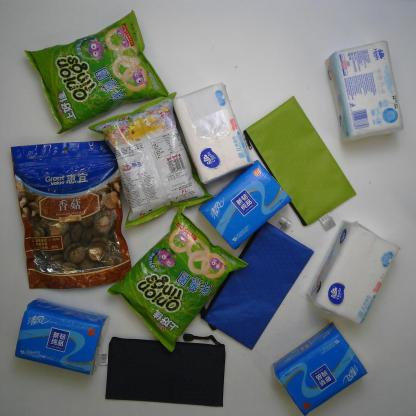Dried Food: (9, 139, 134, 291)
Puffed Food: (105, 206, 250, 354), (23, 8, 170, 135), (87, 90, 215, 230)
Stationery: (199, 214, 317, 351), (242, 94, 358, 232), (104, 332, 227, 409)
Tissue: (305, 219, 402, 326), (270, 320, 369, 416), (195, 159, 292, 250), (171, 80, 254, 185), (323, 39, 405, 143), (14, 297, 110, 377)
